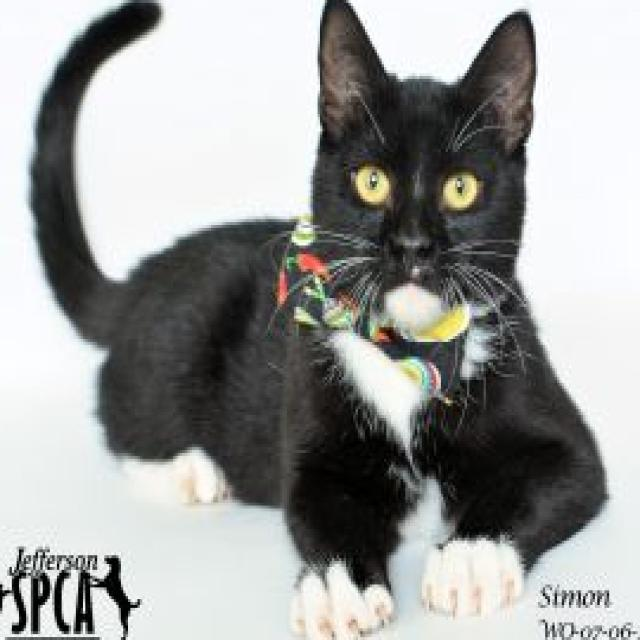Tuxedo: (24, 0, 609, 640)
